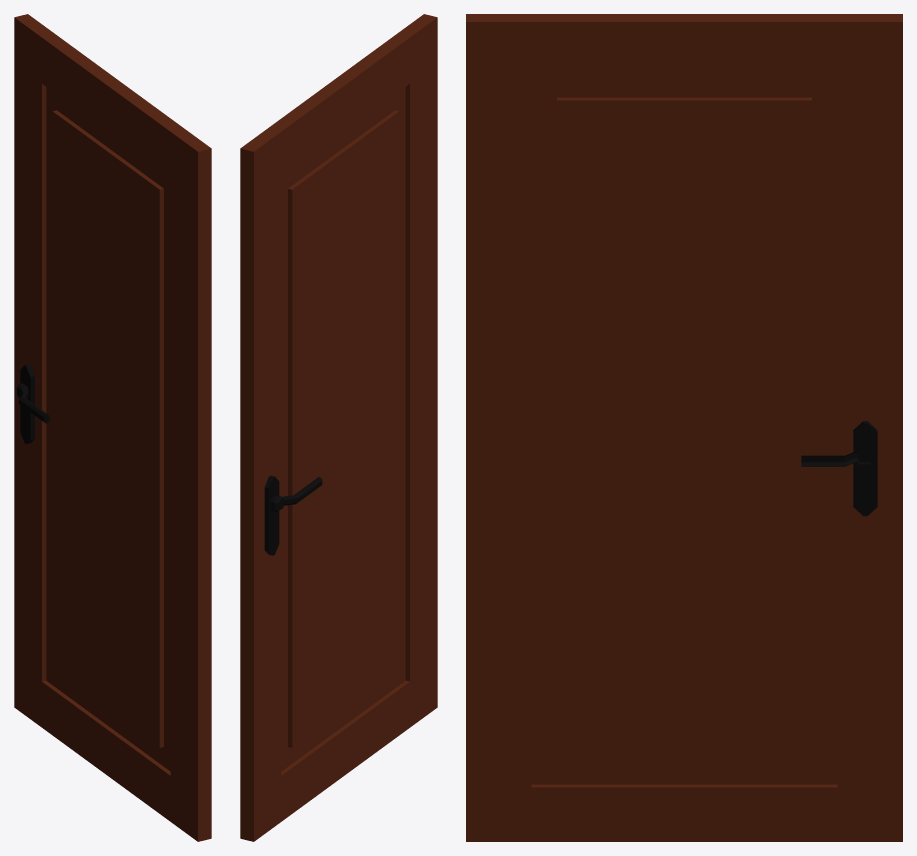
File: door_b.obj
3 renders of one model, left to right at view 1: azimuth 30°, elevation 25°; view 2: azimuth 150°, elevation 25°; view 3: azimuth 270°, elevation 25°, orthographic. The views are drawn at different scales.
Visible parts, largest first — view 1: door; view 2: door; view 3: door.
Part boxes in pixels (x1,y1,x2,y2): door: (14,14,211,841); door: (240,14,437,841); door: (466,14,902,841).
Bounding box in the file's own units: 0.03 × 0.3742 × 0.1806.
